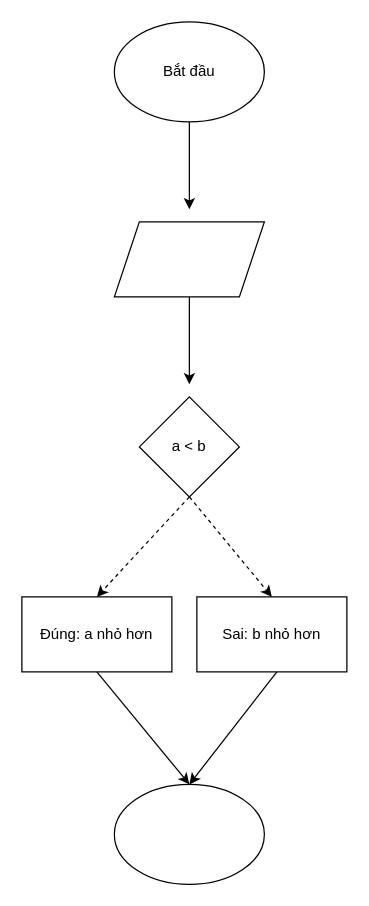
Some shapes in this 369 by 906 pixel diagram are drawn without their labels. Here are the shapes that lost their labels. From the top down, the centre of each, then its label:
(188,259): Nhập a, b
(188,833): Kết thúc
